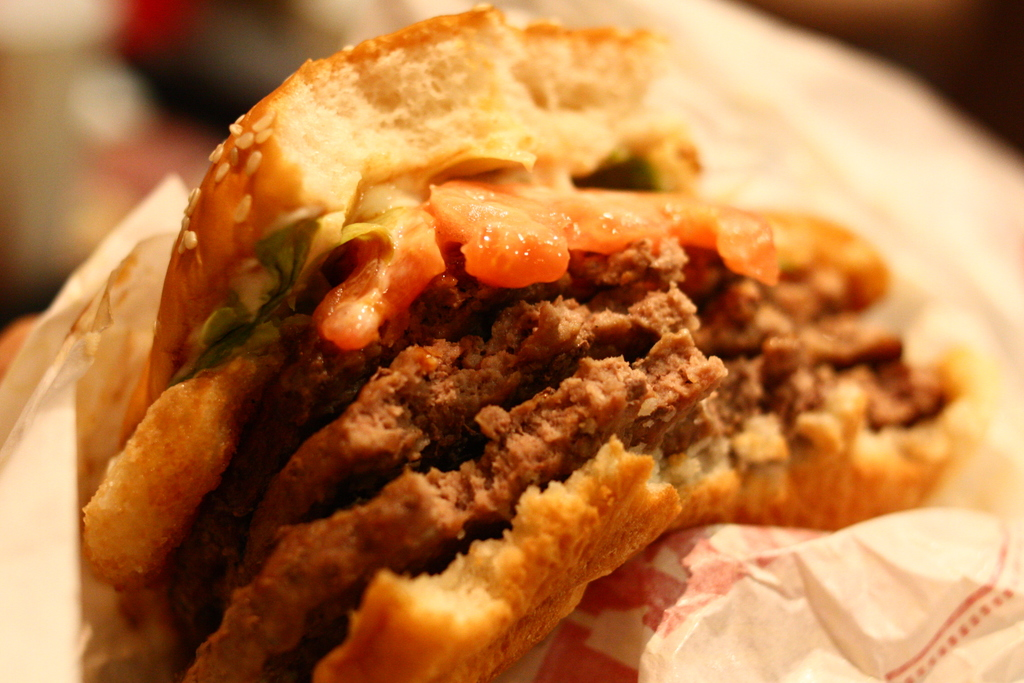Hamburger: (80, 4, 983, 682)
